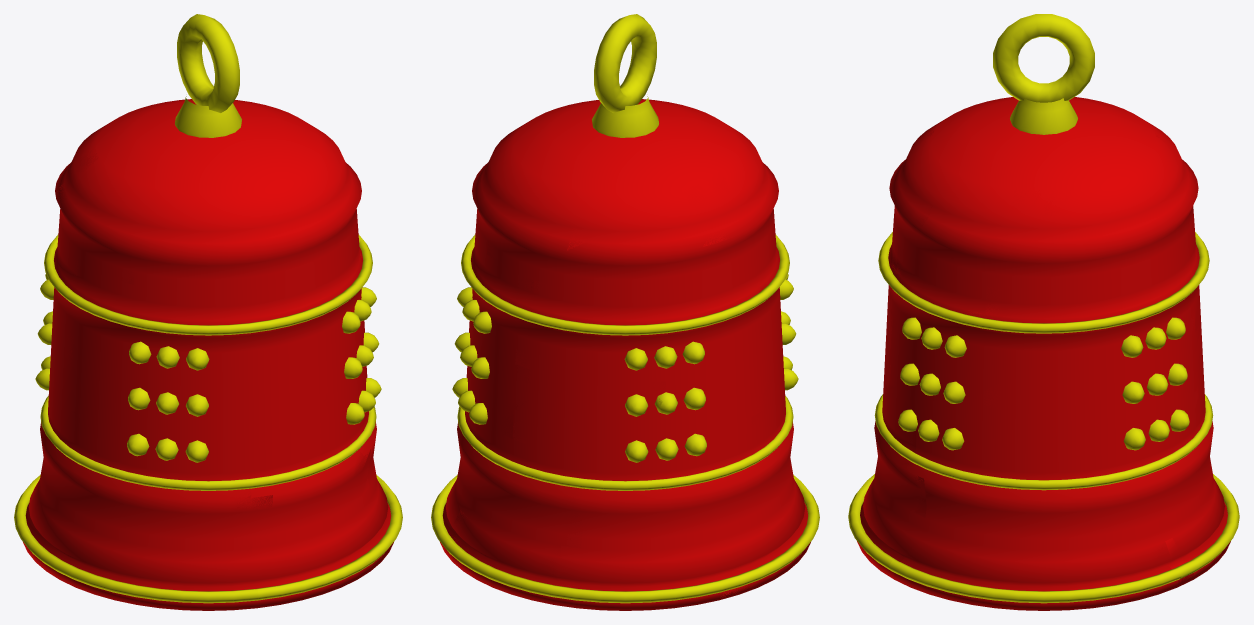
File: vfx-kimtra-bell3d.glb
3 views of the same model, side by side, from view 1: azimuth 30°, elevation 25°; view 2: azimuth 150°, elevation 25°; view 3: azimuth 270°, elevation 25° (orthographic).
Visible parts, largest first — view 1: bell, shard_06, shard_04, shard_05, shard_19, shard_11; view 2: bell, shard_02, shard_04, shard_12, shard_03, shard_19, shard_10, shard_09, shard_11; view 3: bell, shard_02, shard_07, shard_06, shard_08, shard_01, shard_09, shard_14.
Part boxes in pixels (left/top/right/bottom): bell: left=14, top=14, right=402, bottom=610; shard_06: left=253, top=439, right=380, bottom=598; shard_04: left=31, top=422, right=95, bottom=583; shard_05: left=91, top=480, right=272, bottom=599; shard_19: left=57, top=150, right=133, bottom=284; shard_11: left=56, top=255, right=78, bottom=371; bell: left=431, top=14, right=819, bottom=610; shard_02: left=438, top=423, right=582, bottom=595; shard_04: left=707, top=414, right=808, bottom=598; shard_12: left=751, top=261, right=778, bottom=430; shard_03: left=551, top=546, right=720, bottom=599; shard_19: left=683, top=170, right=773, bottom=250; shard_10: left=513, top=281, right=665, bottom=448; shard_09: left=499, top=275, right=533, bottom=438; shard_11: left=736, top=336, right=762, bottom=437; bell: left=848, top=14, right=1239, bottom=610; shard_02: left=1158, top=397, right=1232, bottom=579; shard_07: left=890, top=545, right=1043, bottom=603; shard_06: left=852, top=400, right=926, bottom=579; shard_08: left=967, top=287, right=1022, bottom=409; shard_01: left=1044, top=543, right=1193, bottom=603; shard_09: left=1184, top=236, right=1202, bottom=415; shard_14: left=883, top=244, right=903, bottom=401.
Bounding box in the file's own units: 0.8587 × 1.25 × 0.8587.
